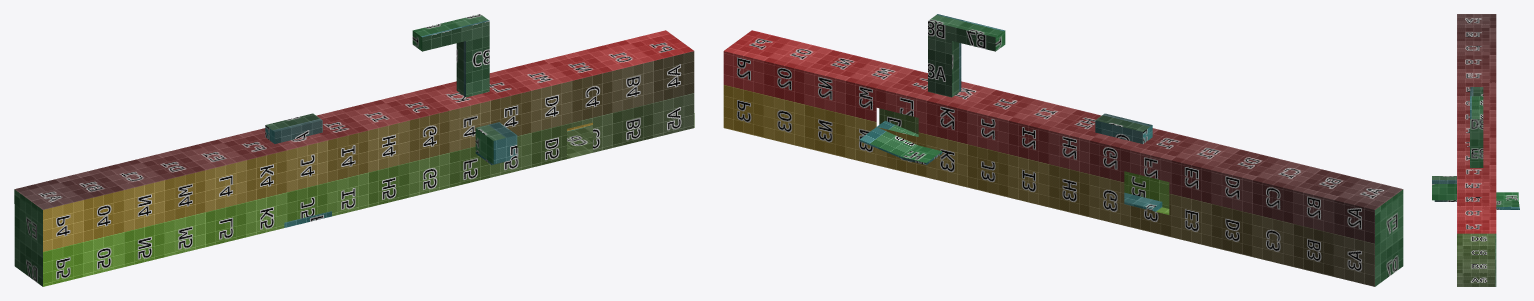
File: Flat.fbx
The picture shows the model from 3 angles, left to right: view 1: azimuth 30°, elevation 25°; view 2: azimuth 150°, elevation 25°; view 3: azimuth 270°, elevation 25°; orthographic projection. The views are drawn at different scales.
Parts seen in each view (by area): view 1: Flat; view 2: Flat; view 3: Flat.
Boxes of the visible parts, left/top/right/bottom form: Flat: left=14, top=14, right=694, bottom=286; Flat: left=723, top=14, right=1403, bottom=286; Flat: left=1432, top=14, right=1519, bottom=286.
Bounding box in the file's own units: 79.91 × 17.32 × 13.49.
